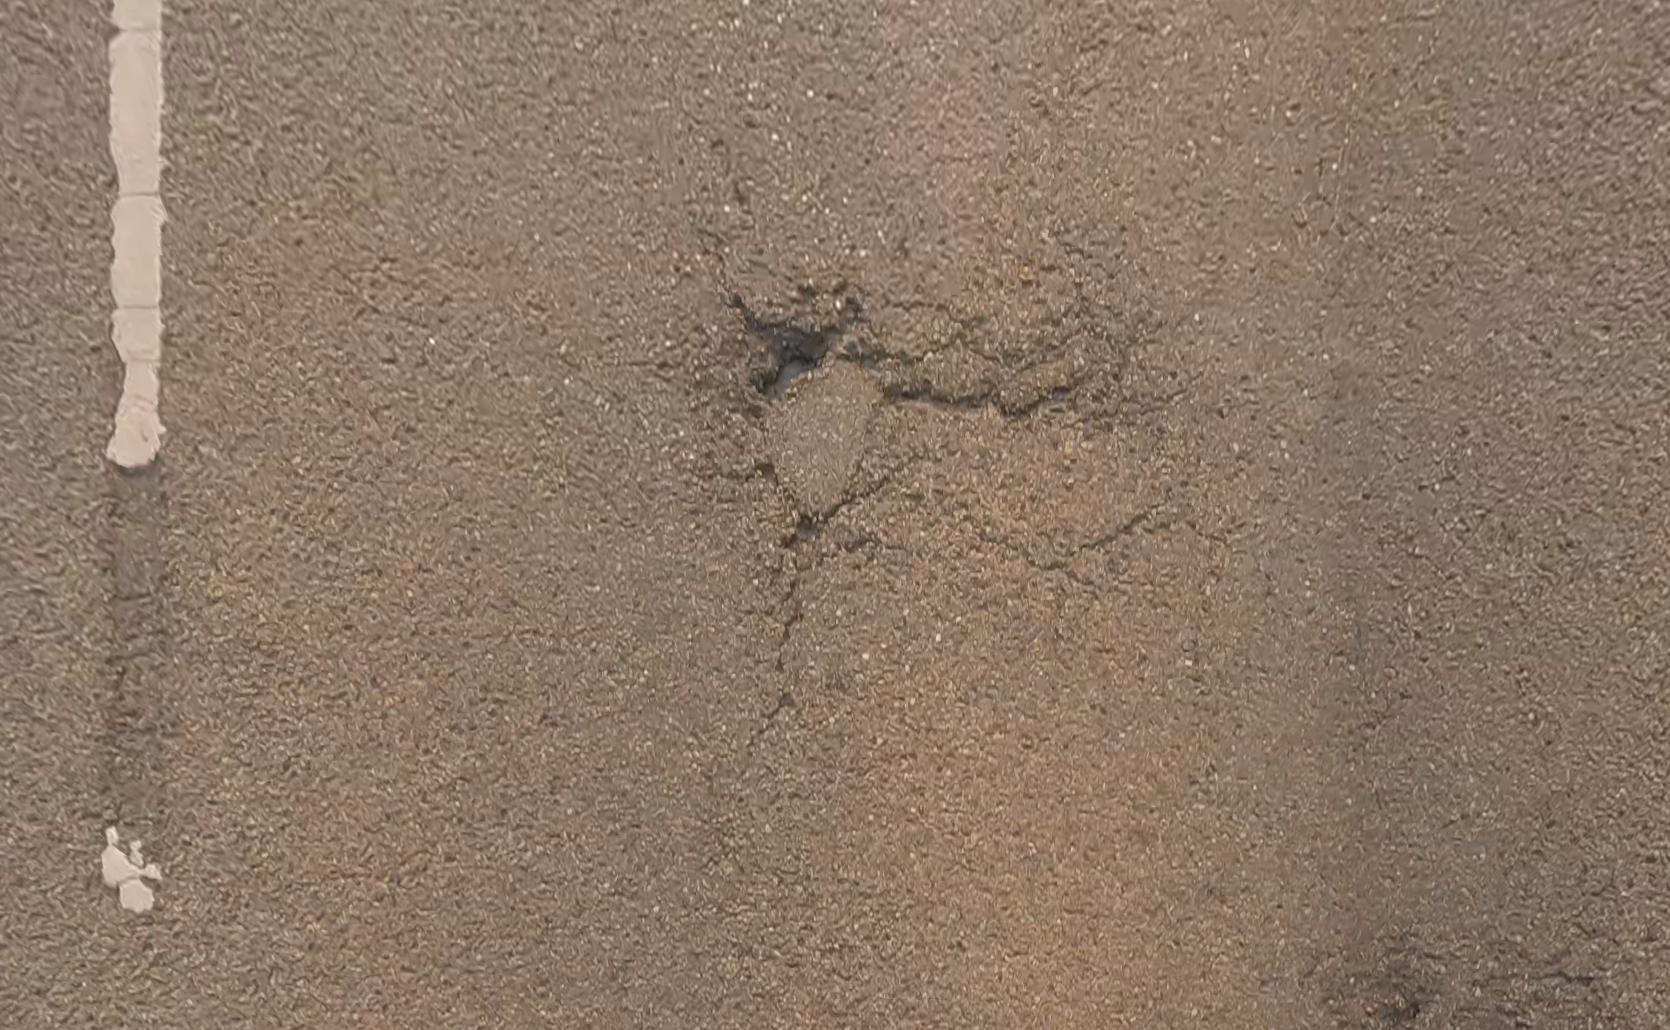pothole: (689, 327, 843, 424), (783, 511, 823, 567), (750, 458, 781, 487)
pothole_patch_poor: (772, 358, 883, 517)
